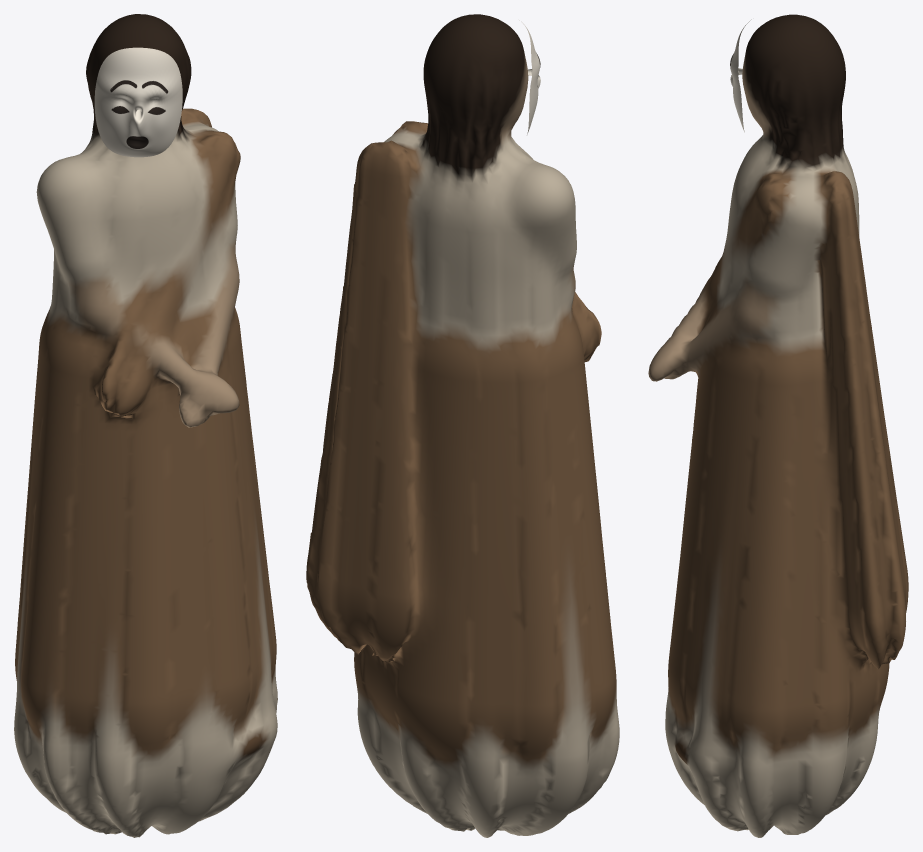
Rendered from actor_clay.glb.
The picture shows the model from 3 angles, left to right: view 1: azimuth 30°, elevation 25°; view 2: azimuth 150°, elevation 25°; view 3: azimuth 270°, elevation 25°; orthographic projection.
Size of the model in its own units: 0.669 by 2.07 by 0.6074.
Materials: 2 (1 with a texture image).
